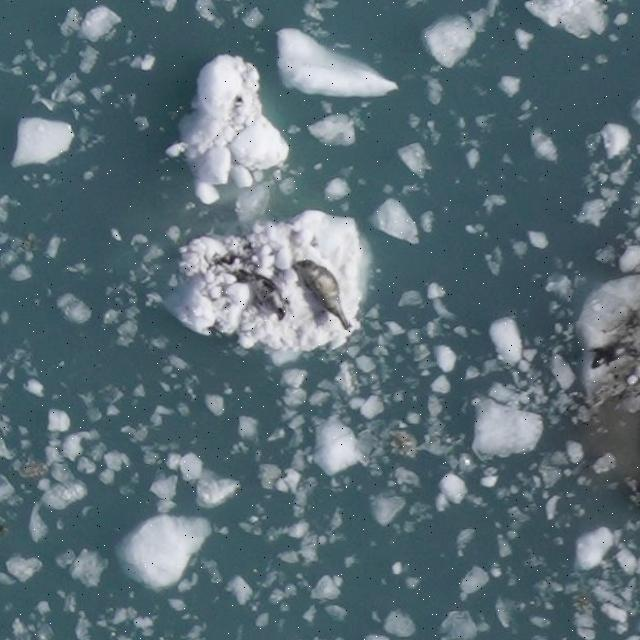seal: (293, 260, 349, 330)
